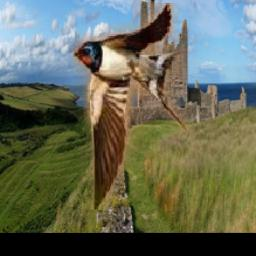Swallow: (71, 3, 215, 210)
